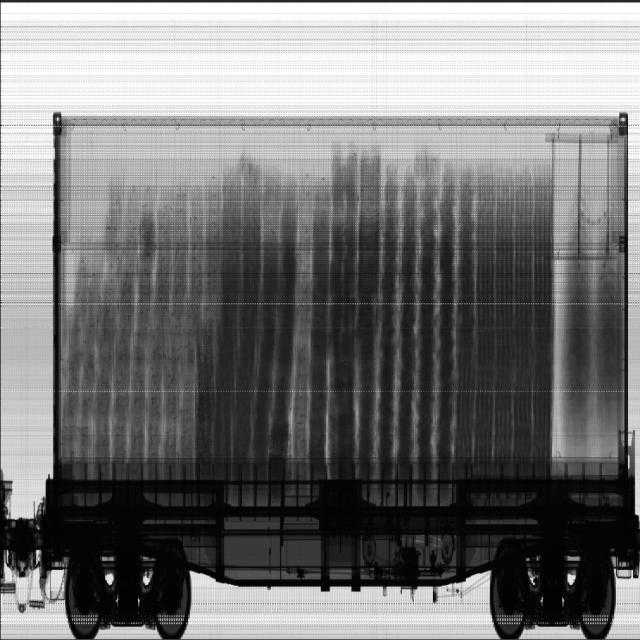clothes: (559, 189, 629, 442)
textiles: (62, 152, 384, 465)
